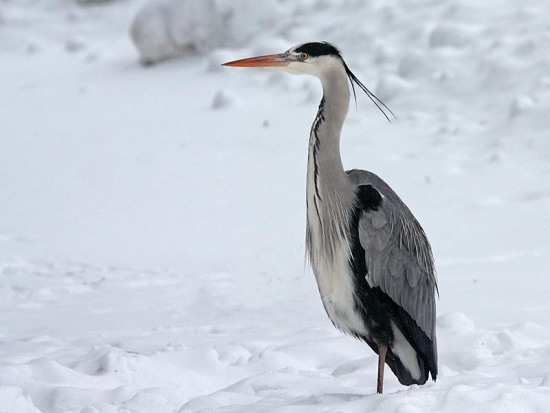heron: (221, 41, 441, 397)
